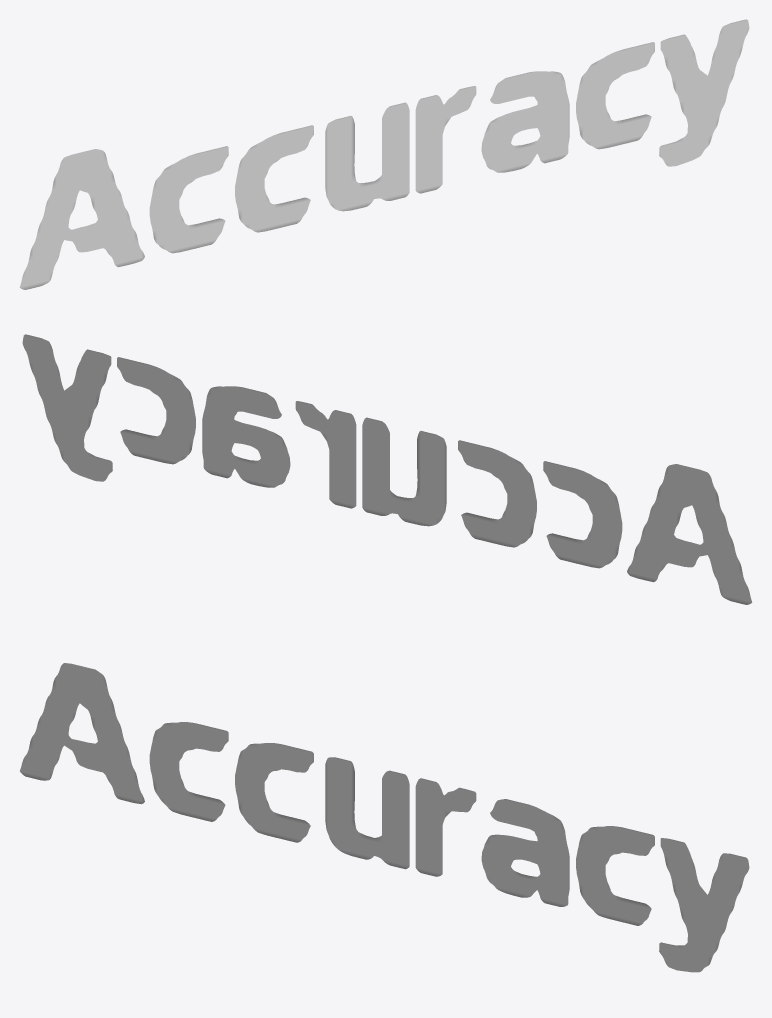
The model's file is Mesh_104_5e8f545f__Watford_DB-22_ed023daf_9c9708.obj.
3 views of the same model, one above another, from view 1: azimuth 30°, elevation 25°; view 2: azimuth 150°, elevation 25°; view 3: azimuth 330°, elevation 25° (orthographic).
Size of the model in its own units: 48 by 11 by 0.
Materials: 1 (1 with a texture image).
